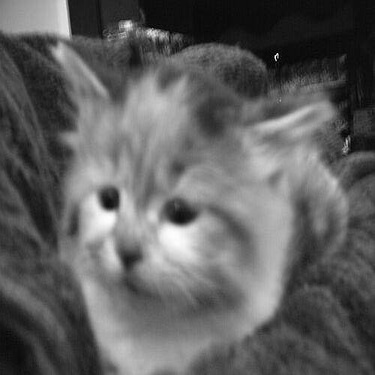cat: (1, 27, 364, 362)
